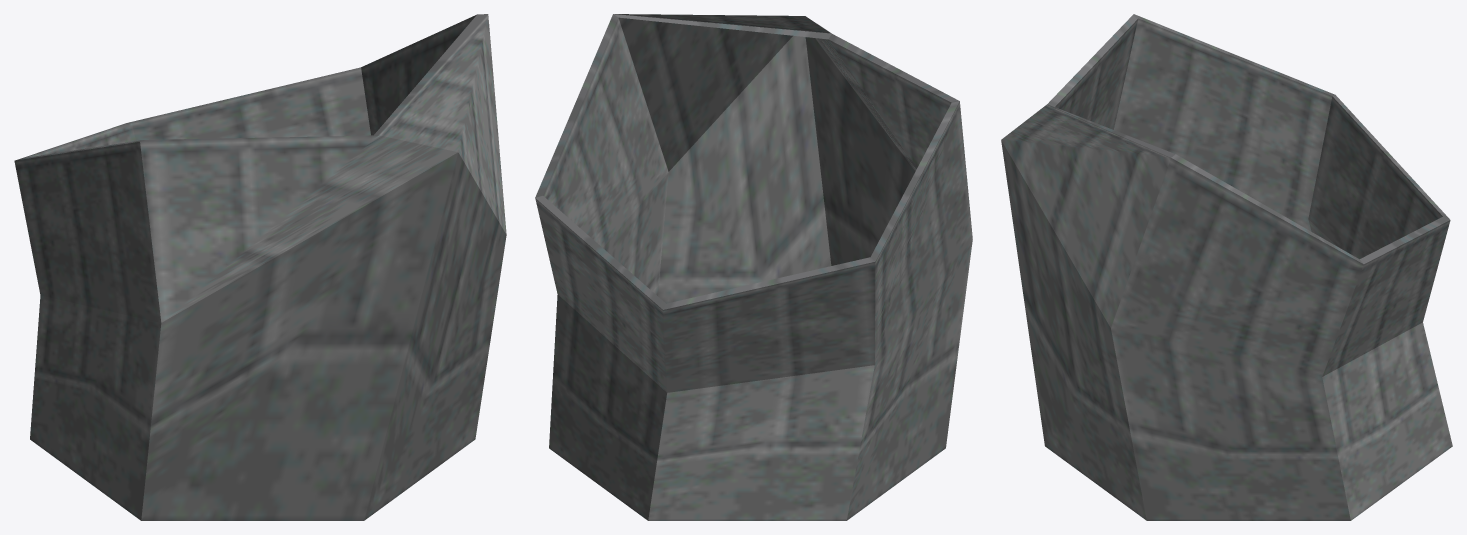
The model's file is Urban_MetaltrashcanBeatenAlt_Model.fbx.
The picture shows the model from 3 angles, left to right: view 1: azimuth 30°, elevation 25°; view 2: azimuth 150°, elevation 25°; view 3: azimuth 270°, elevation 25°; orthographic projection. The views are drawn at different scales.
Visible parts, largest first — view 1: Urban_MetaltrashcanBeatenAlt_Mesh; view 2: Urban_MetaltrashcanBeatenAlt_Mesh; view 3: Urban_MetaltrashcanBeatenAlt_Mesh.
Boxes of the visible parts, left/top/right/bottom form: Urban_MetaltrashcanBeatenAlt_Mesh: left=14, top=14, right=506, bottom=520; Urban_MetaltrashcanBeatenAlt_Mesh: left=535, top=14, right=972, bottom=520; Urban_MetaltrashcanBeatenAlt_Mesh: left=1001, top=14, right=1452, bottom=520.
Bounding box in the file's own units: 0.7592 × 0.7729 × 0.8444.
